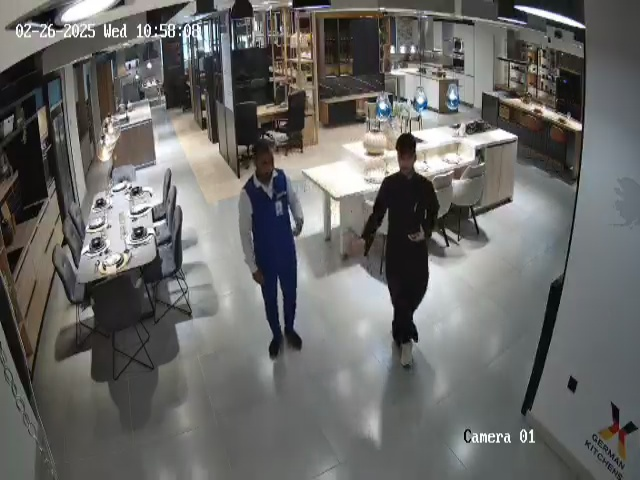employee: (238, 139, 304, 360)
male: (361, 133, 440, 370)
